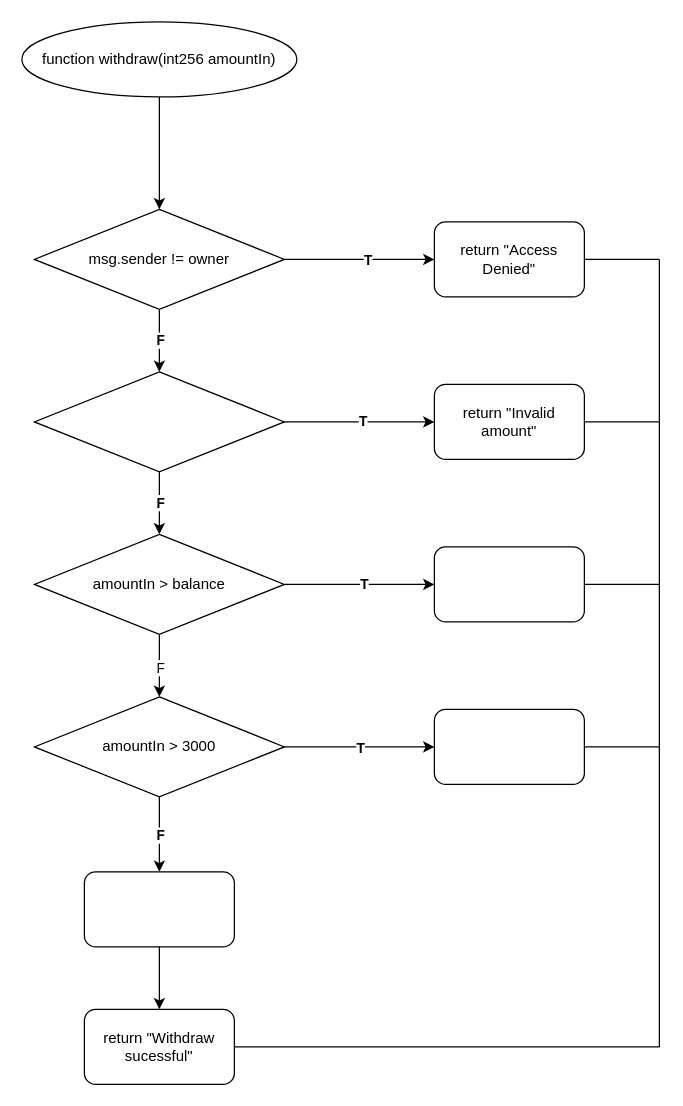
The diagram is 683 pixels wide and 1106 high, and some of its shapes have lost their labels. The shapes that lost their labels are listed below. From the top down, each one's centre as x and y in pixels, then its label:
the point at 158,421: amountIn <= 0
the point at 508,584: return "Inufiicient funds"
the point at 508,746: return "Limit exceed"
the point at 158,909: balance -= amountIN
